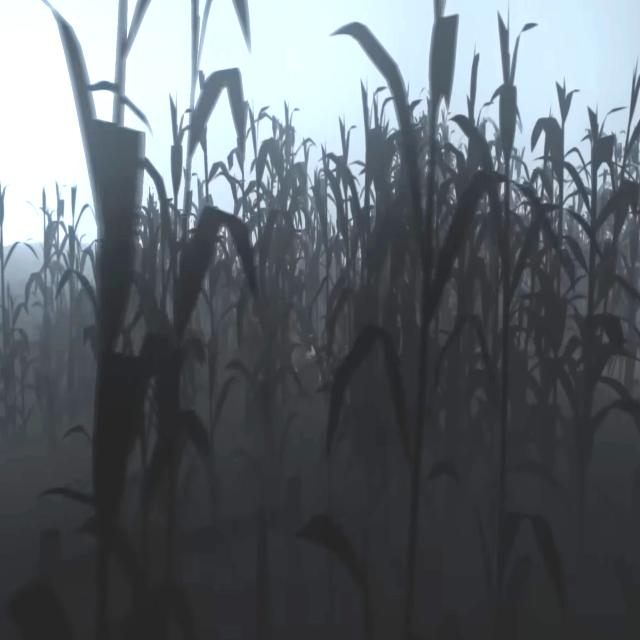boy: (295, 334, 321, 382)
